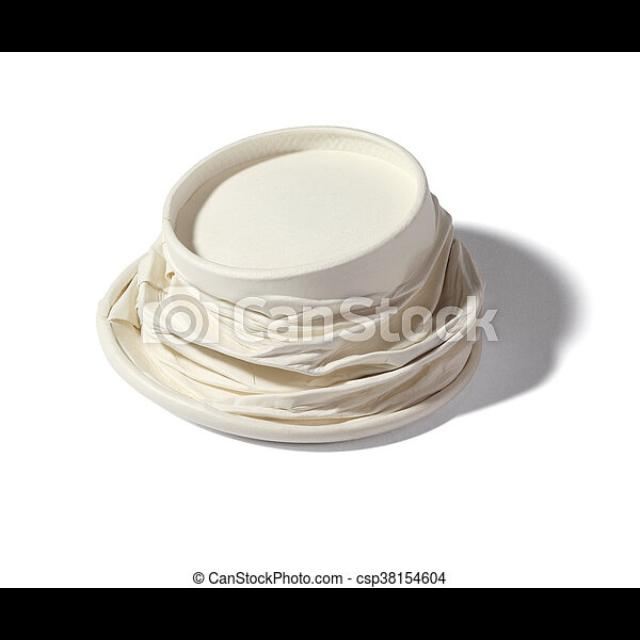trash: (92, 120, 482, 450)
